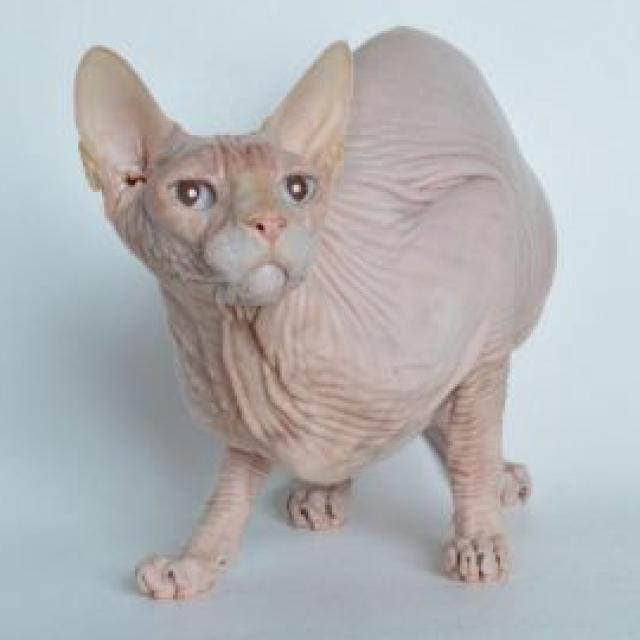Sphynx: (68, 21, 562, 605)
